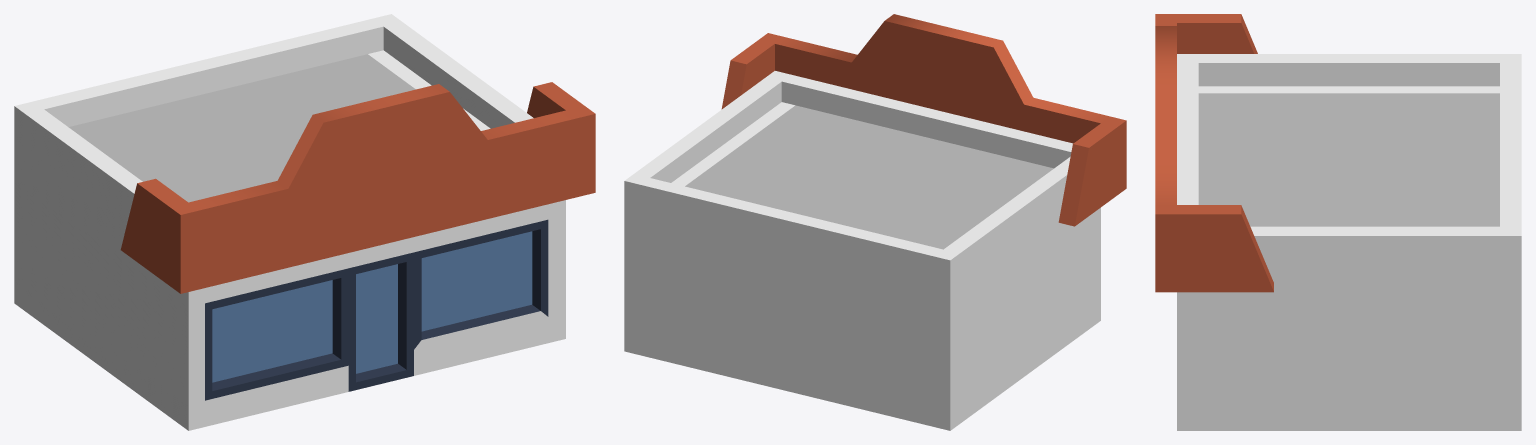
Rendered from commercial_house_04.fbx.
3 views of the same model, side by side, from view 1: azimuth 30°, elevation 25°; view 2: azimuth 150°, elevation 25°; view 3: azimuth 270°, elevation 25° (orthographic). The views are drawn at different scales.
Parts seen in each view (by area): view 1: Box257; view 2: Box257; view 3: Box257.
Part boxes in pixels (<box>): Box257: <box>14,14,595,430</box>; Box257: <box>624,14,1126,430</box>; Box257: <box>1155,14,1521,430</box>.
Bounding box in the file's own units: 1100 × 724 × 850.
Materials: 1 (1 with a texture image).
